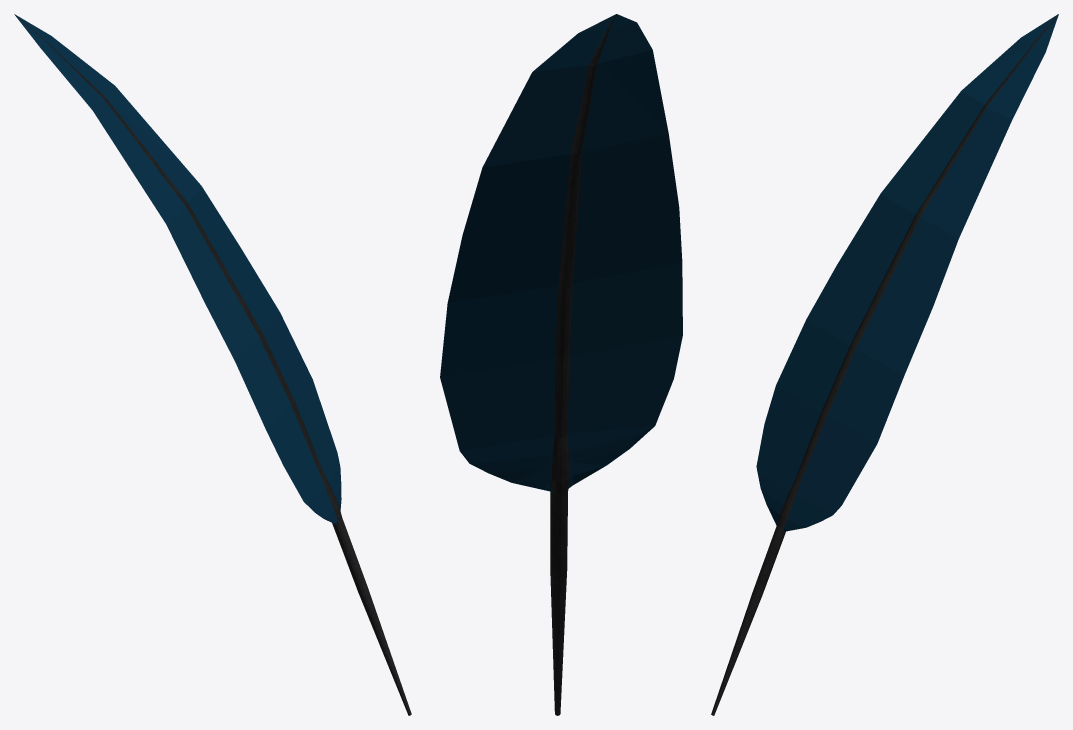
File: Quill.fbx
3 renders of one model, left to right at view 1: azimuth 30°, elevation 25°; view 2: azimuth 150°, elevation 25°; view 3: azimuth 270°, elevation 25°, orthographic. The views are drawn at different scales.
Visible parts, largest first — view 1: Quill_LowPoli; view 2: Quill_LowPoli; view 3: Quill_LowPoli.
Part boxes in pixels (x1,y1,x2,y2): Quill_LowPoli: (14,14,411,715); Quill_LowPoli: (440,14,682,715); Quill_LowPoli: (711,14,1058,715).
Size of the model in its own units: 10.03 by 27.41 by 14.4.
